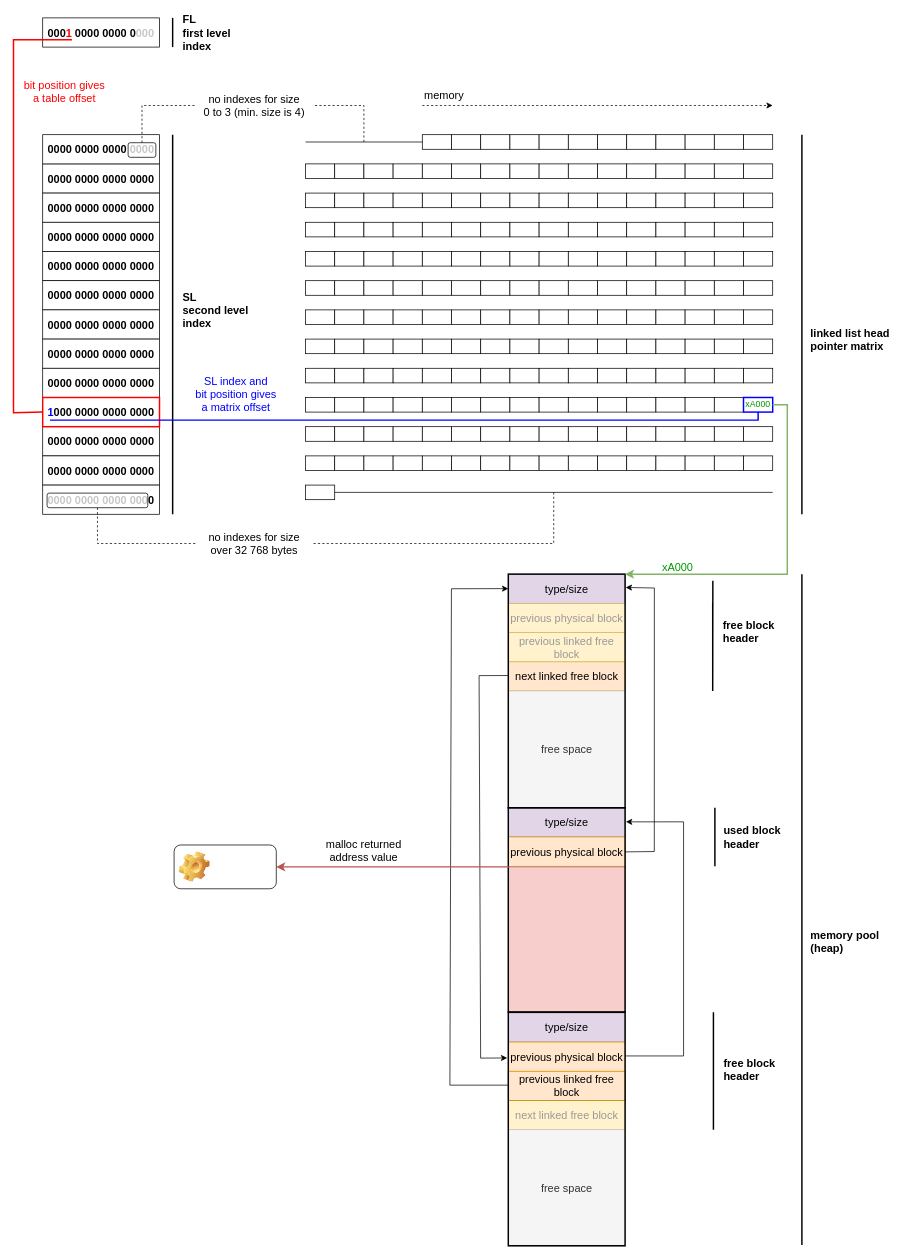
Some shapes in this 902 by 1259 pixel diagram are drawn without their labels. Each missing label, with the centre of its shape:
program: (224,866)
user data: (566,939)
